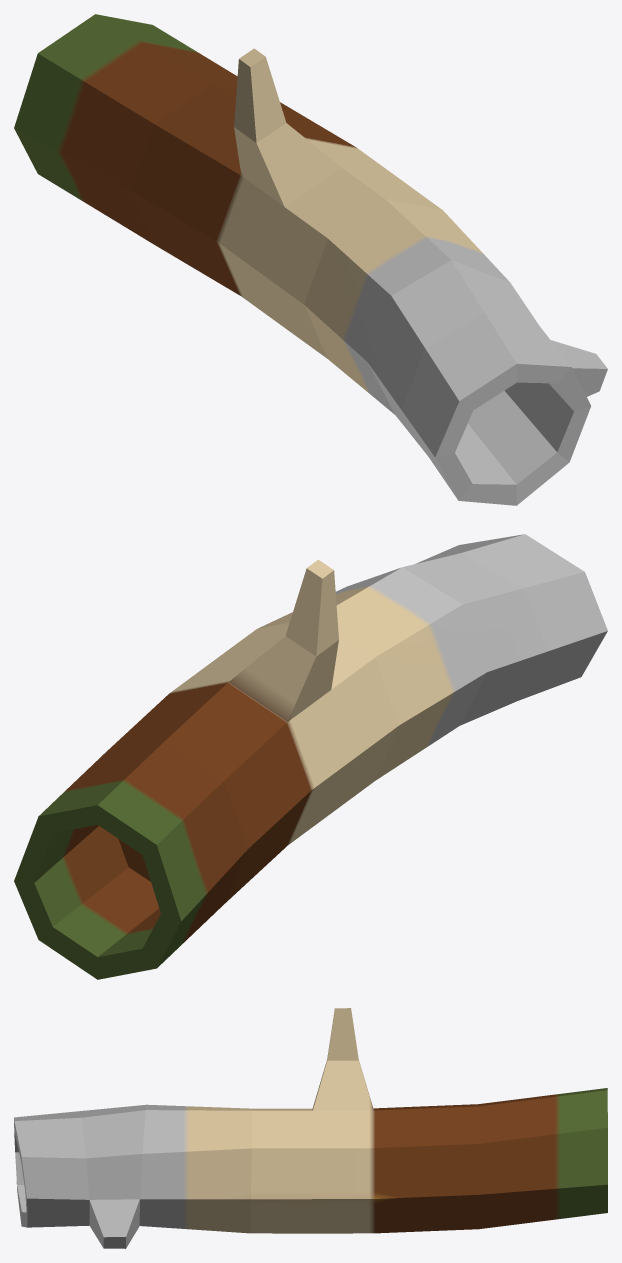
File: Stump_08.fbx
3 views of the same model, one above another, from view 1: azimuth 30°, elevation 25°; view 2: azimuth 150°, elevation 25°; view 3: azimuth 270°, elevation 25° (orthographic). The views are drawn at different scales.
Parts seen in each view (by area): view 1: Stump_08; view 2: Stump_08; view 3: Stump_08.
Part boxes in pixels (<box>): Stump_08: <box>14,14,607,505</box>; Stump_08: <box>14,534,607,979</box>; Stump_08: <box>14,1008,607,1248</box>.
Size of the model in its own units: 1.17 by 1.36 by 3.51.
